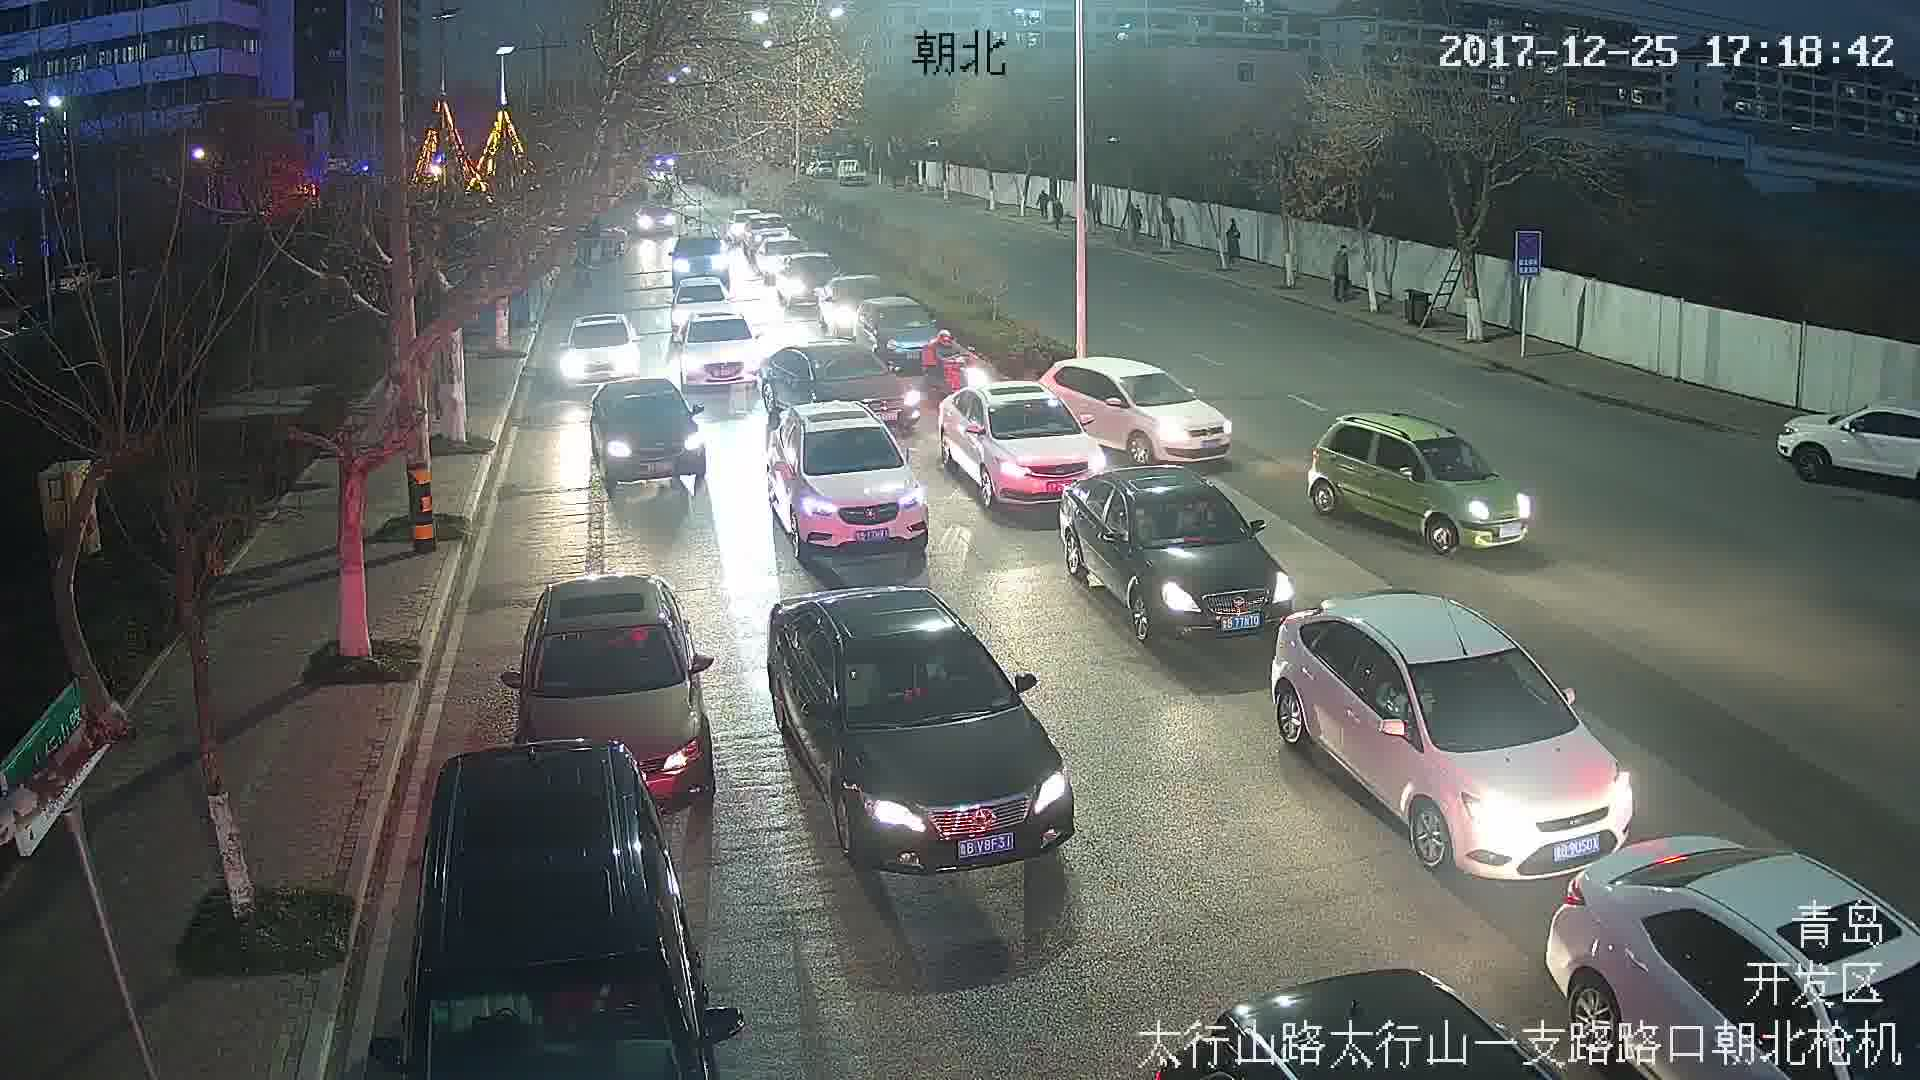car: (1277, 589, 1625, 881), (766, 588, 1078, 874), (500, 571, 723, 812), (1059, 463, 1300, 641), (1316, 412, 1537, 555), (763, 398, 931, 557), (1043, 352, 1232, 464), (935, 381, 1105, 499), (589, 378, 709, 484), (684, 313, 762, 391), (564, 312, 637, 382)
person: (1328, 244, 1353, 302)
